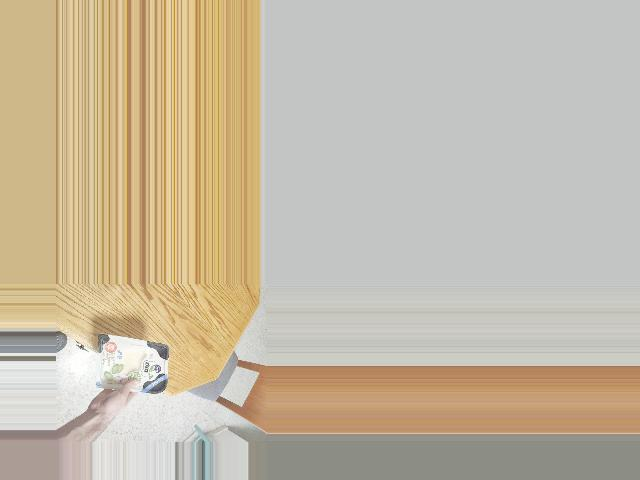cheese: (88, 334, 178, 397)
